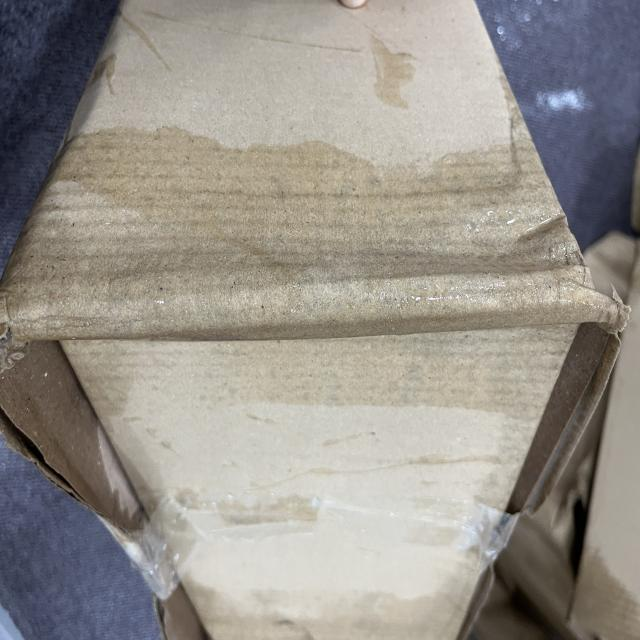wet: (0, 113, 611, 425)
